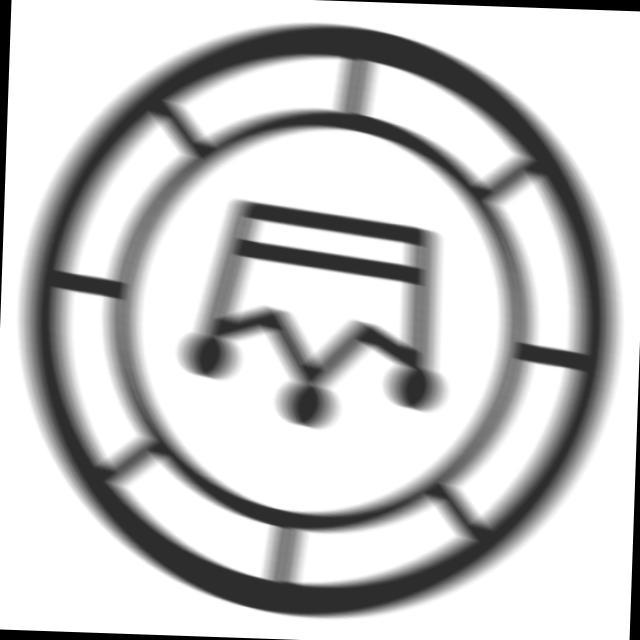coin: (2, 1, 640, 640)
